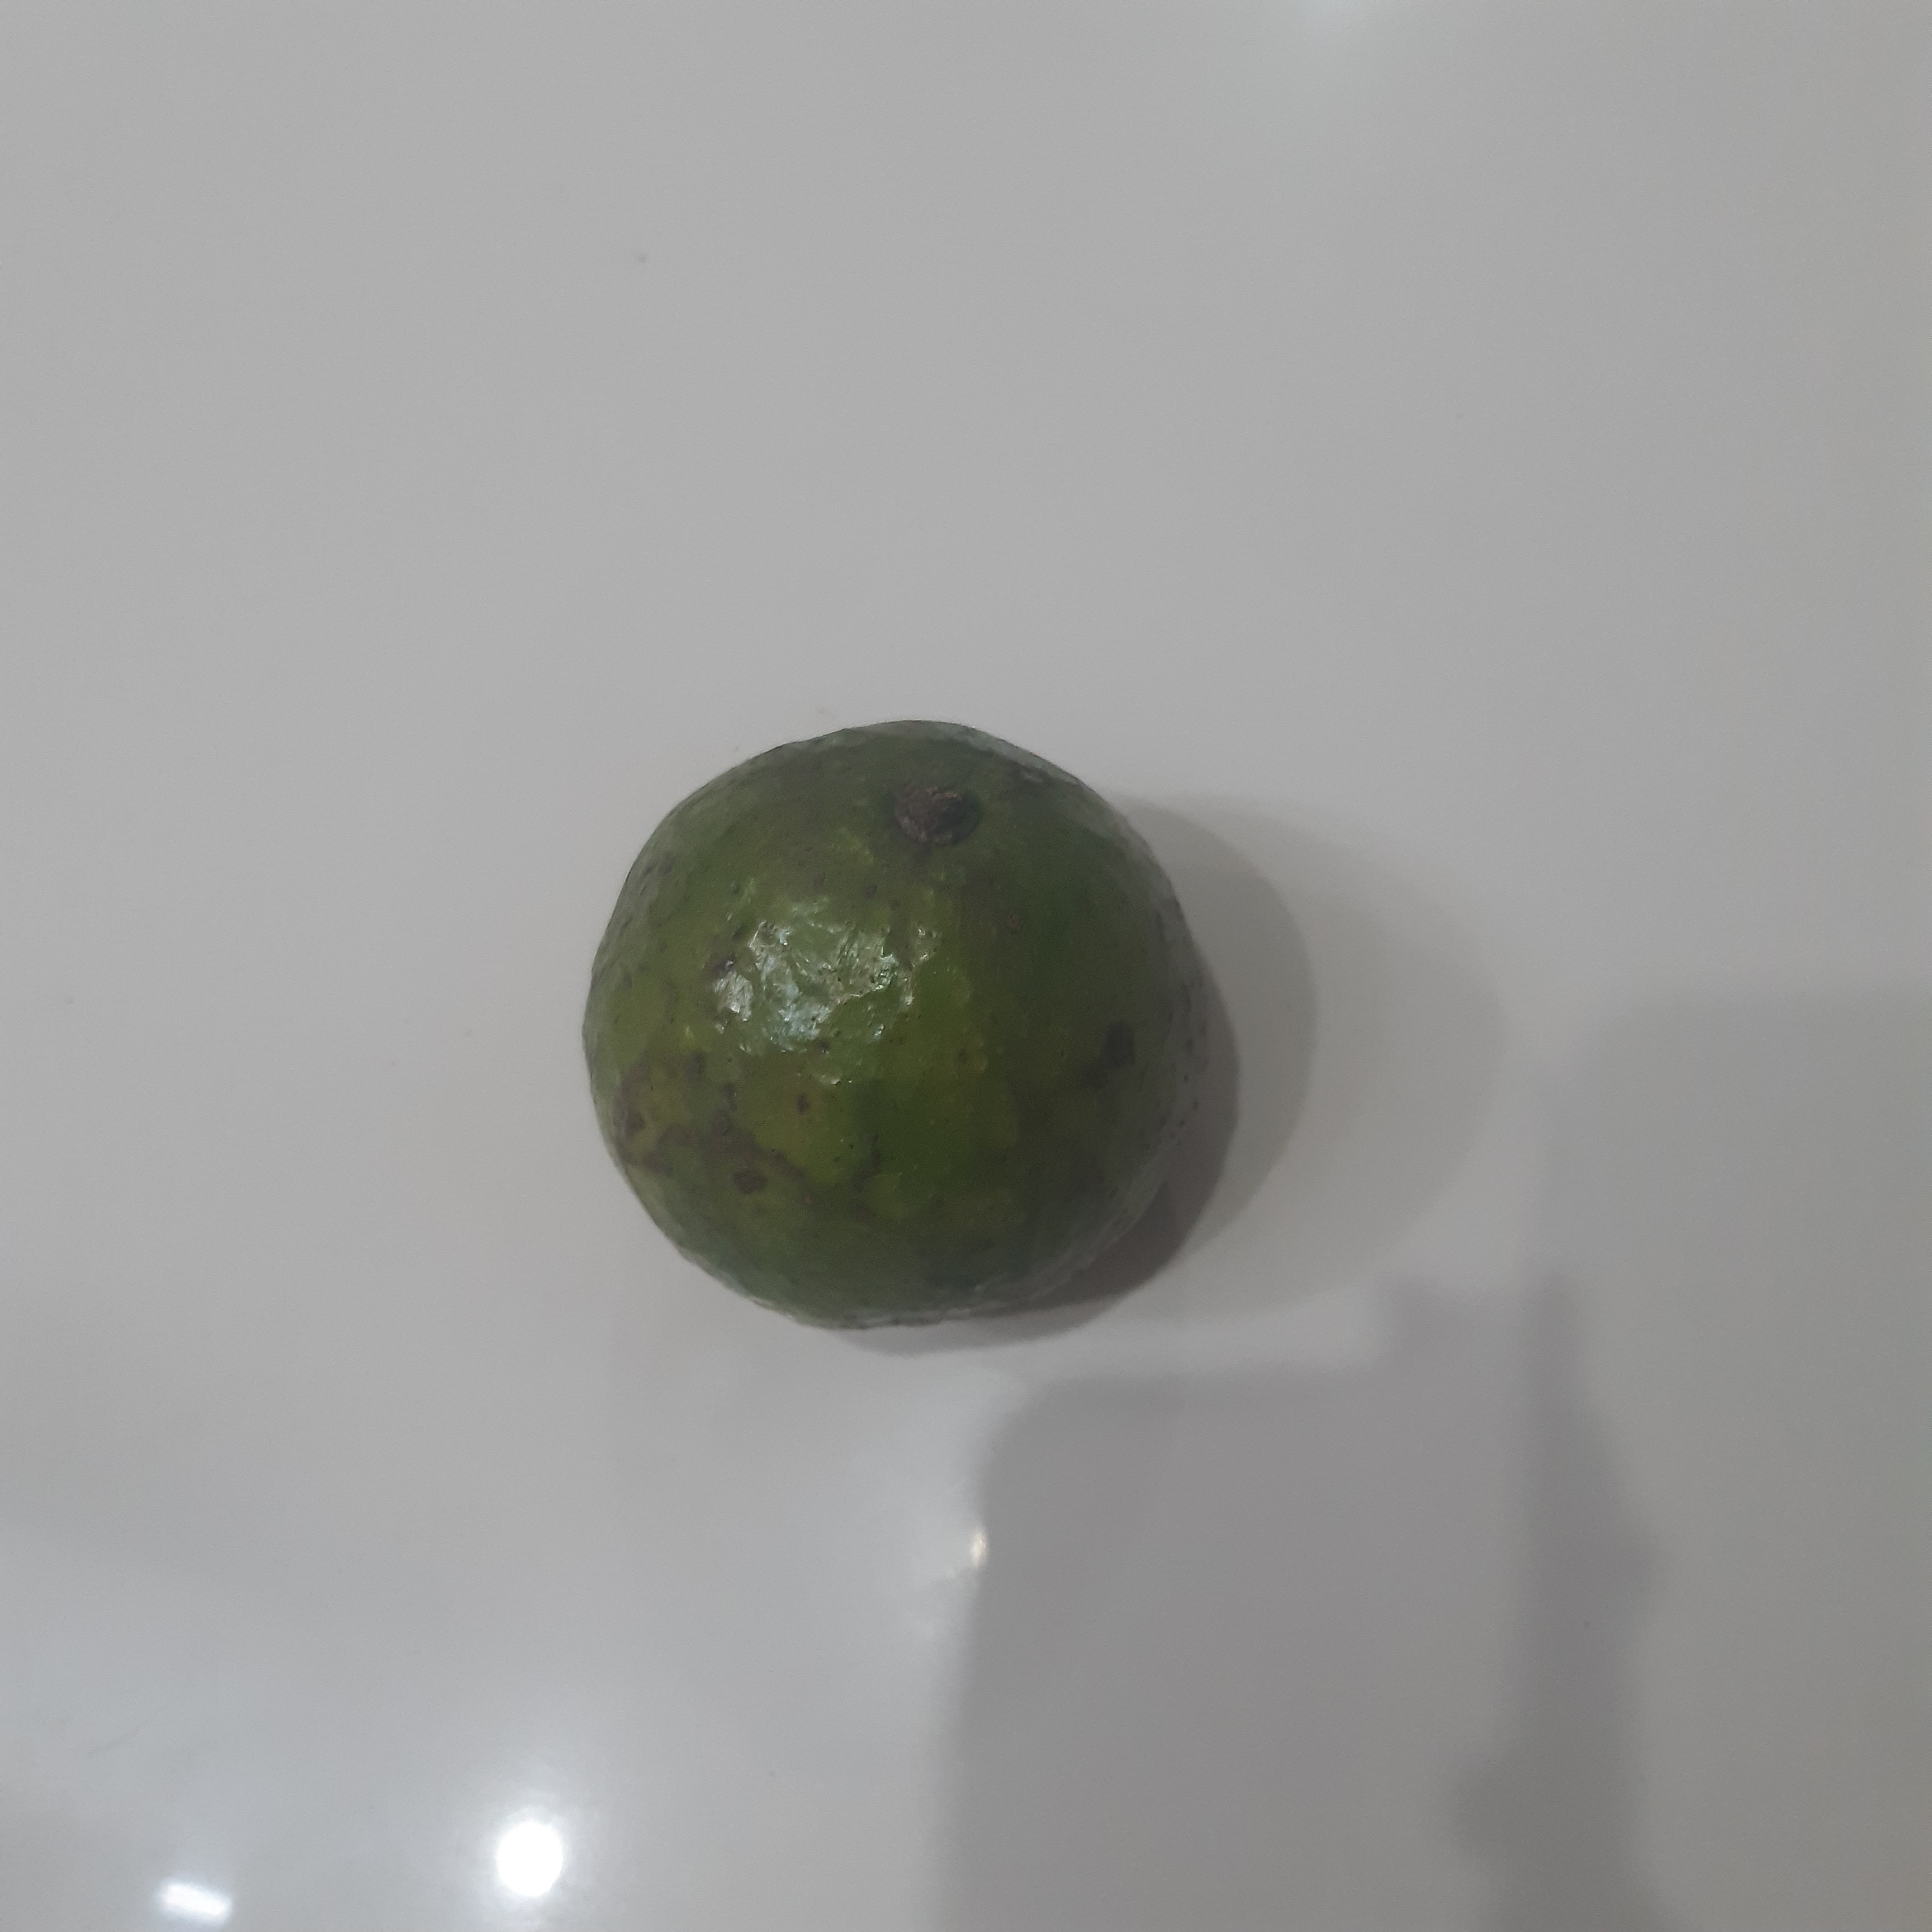Bo: (577, 718, 1210, 1339)
